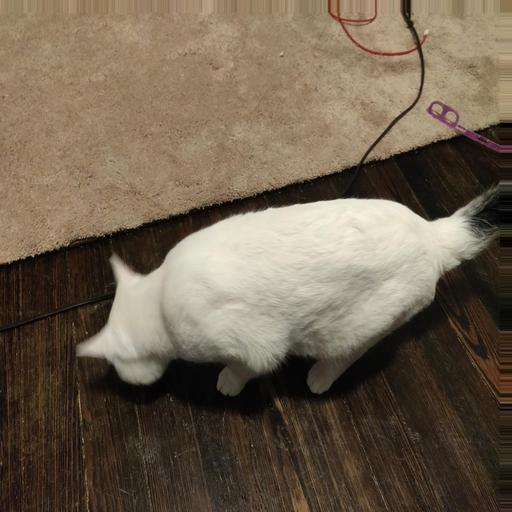cat: (82, 172, 316, 406)
